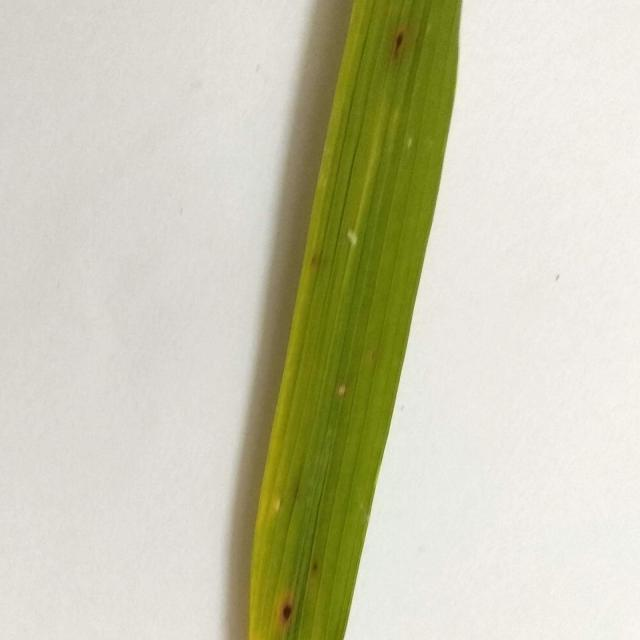Brown spot: (263, 579, 306, 640), (304, 233, 336, 275), (300, 548, 330, 582), (390, 21, 414, 58)
